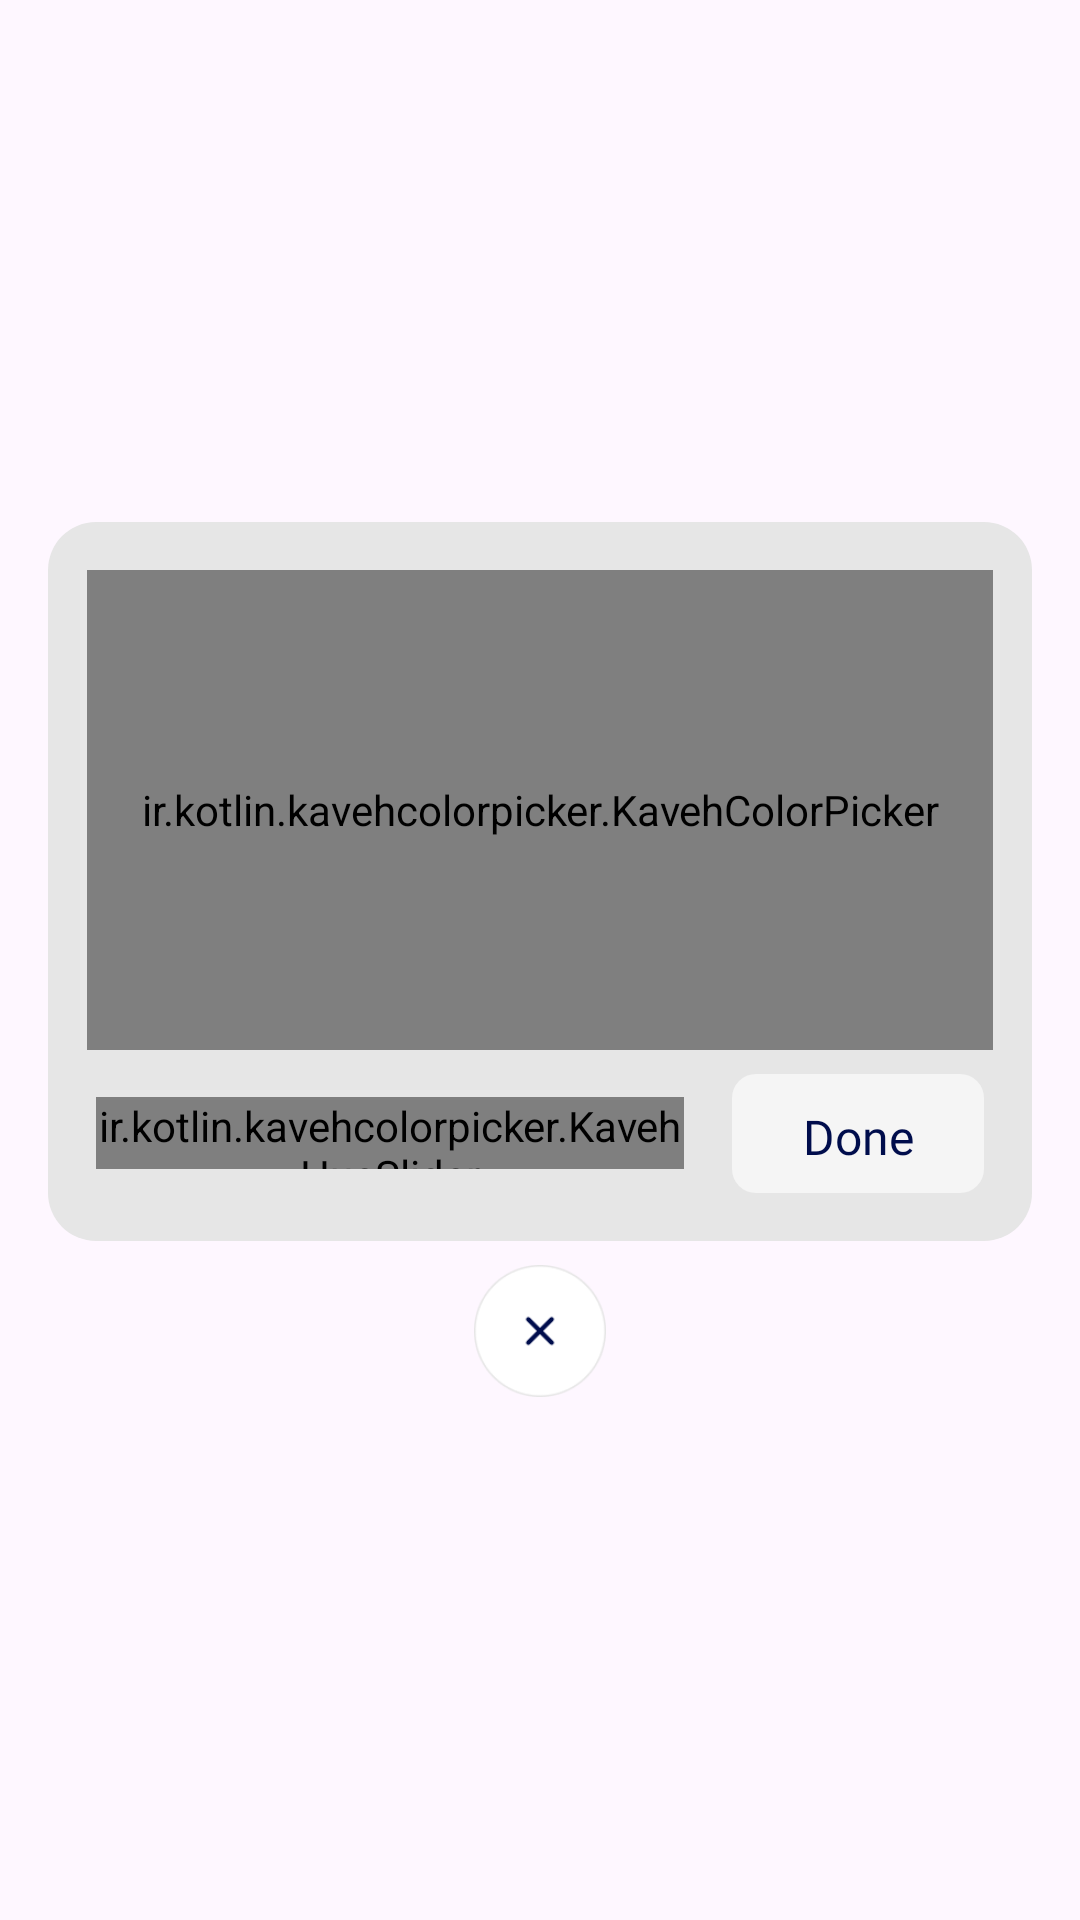

Icon click points for this 1080*1920 phone screenshot, format point (x, y):
close: point (540, 1331)
